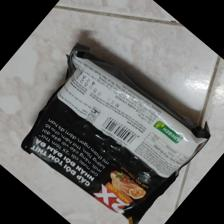3mien: (19, 41, 212, 224)
